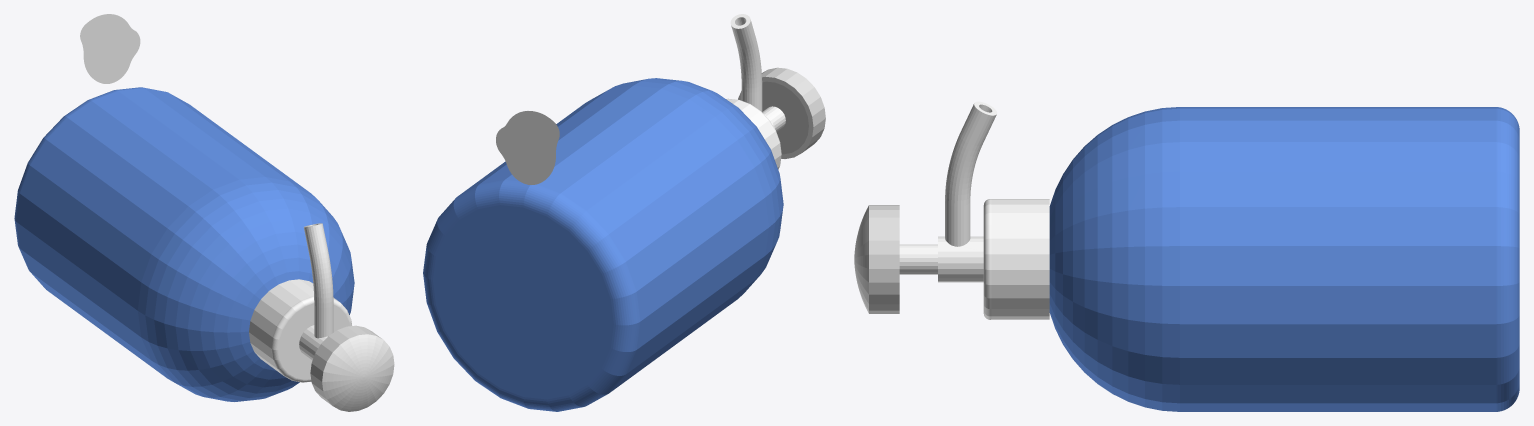
3 renders of one model, left to right at view 1: azimuth 30°, elevation 25°; view 2: azimuth 150°, elevation 25°; view 3: azimuth 270°, elevation 25°, orthographic. The views are drawn at different scales.
Parts seen in each view (by area): view 1: soap dispenser; view 2: soap dispenser; view 3: soap dispenser.
Boxes of the visible parts, bbox=[...] form: soap dispenser: bbox=[14, 14, 394, 411]; soap dispenser: bbox=[423, 14, 825, 411]; soap dispenser: bbox=[854, 101, 1519, 411].
Bounding box in the file's own units: 4.2 × 5.66 × 9.13.
